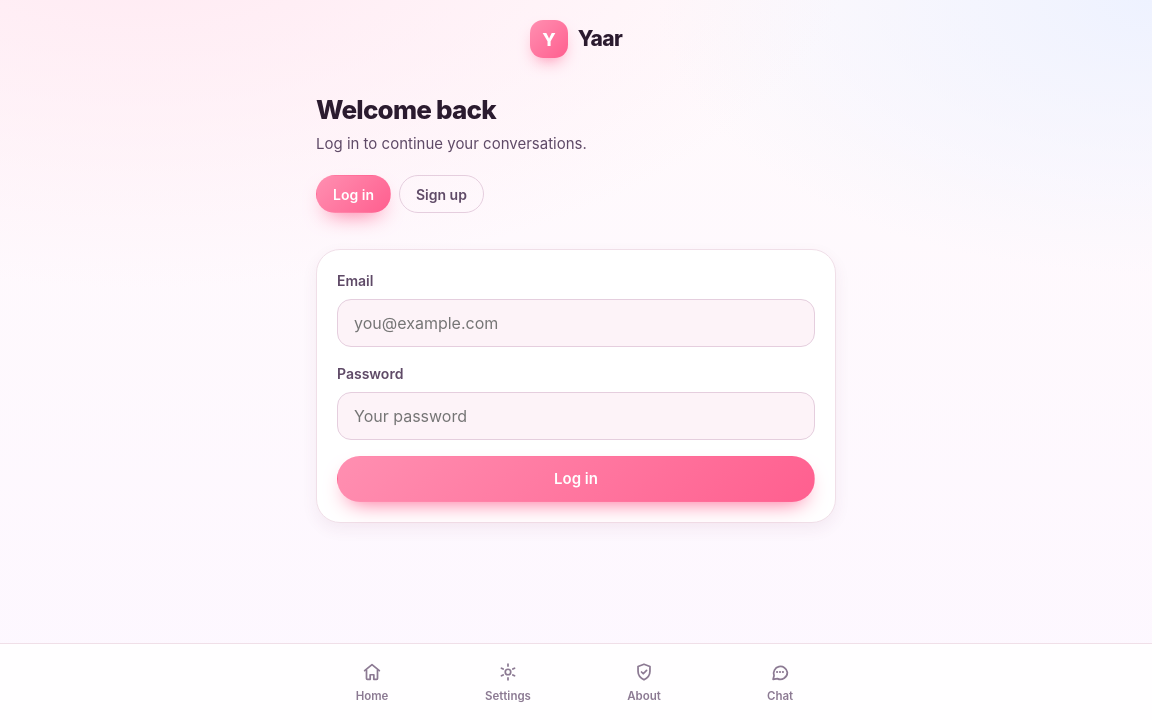
Test: auth › sign-up asks the user to confirm their email when Supabase requires it
Click the tab "Sign up". click: [441, 194]
box: [399,175,484,213]
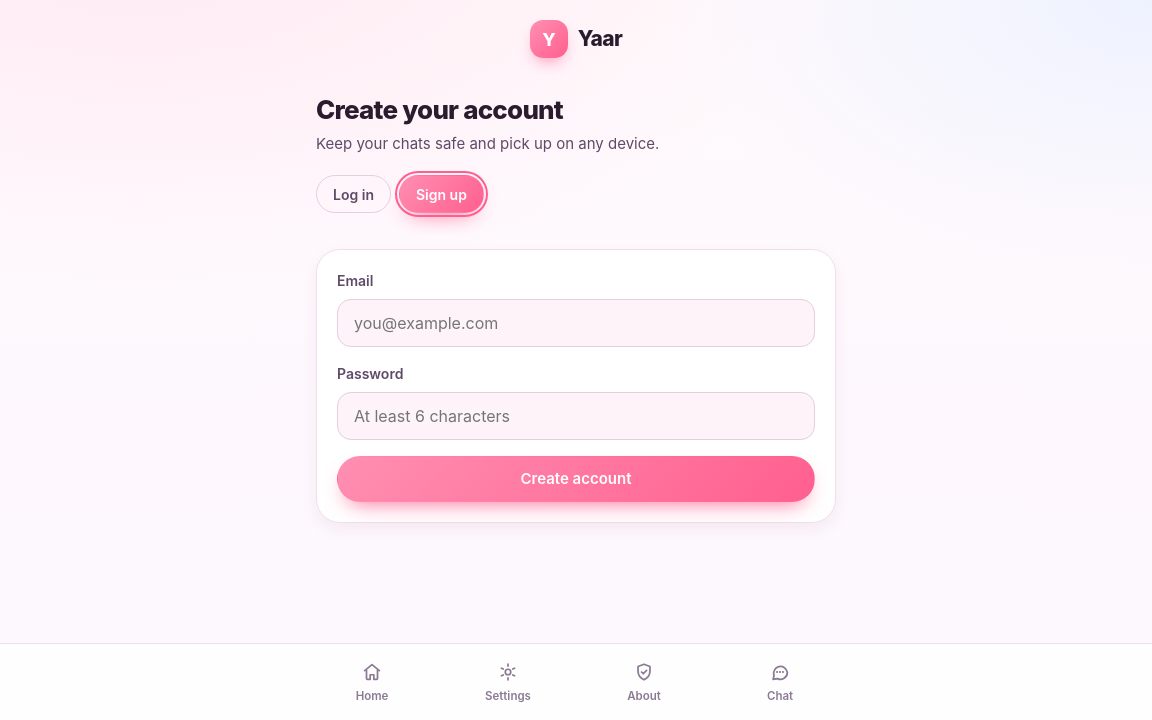
Type "new@example.com" into the field labelled "Email". click: [576, 323]
box: [337,299,815,347]
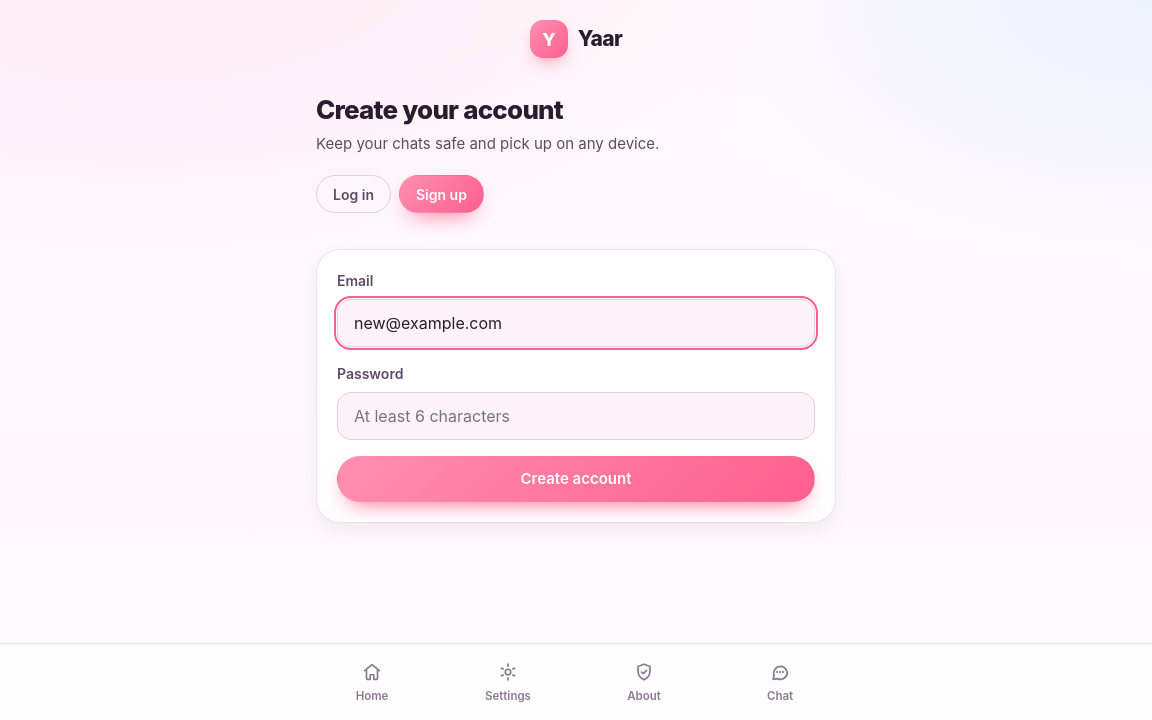
Type "secret123" into the password field labelled "Password". click: [576, 416]
box: [337,392,815,440]
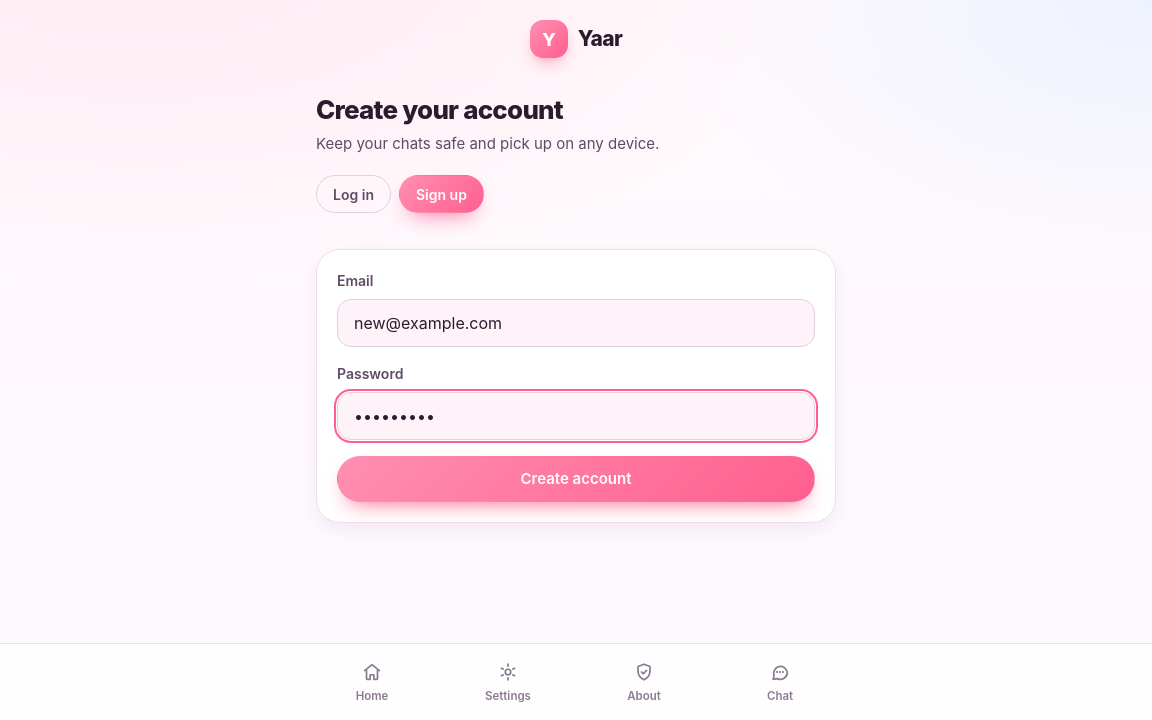
Click the button "Create account". click: [576, 479]
box: [337,456,815,502]
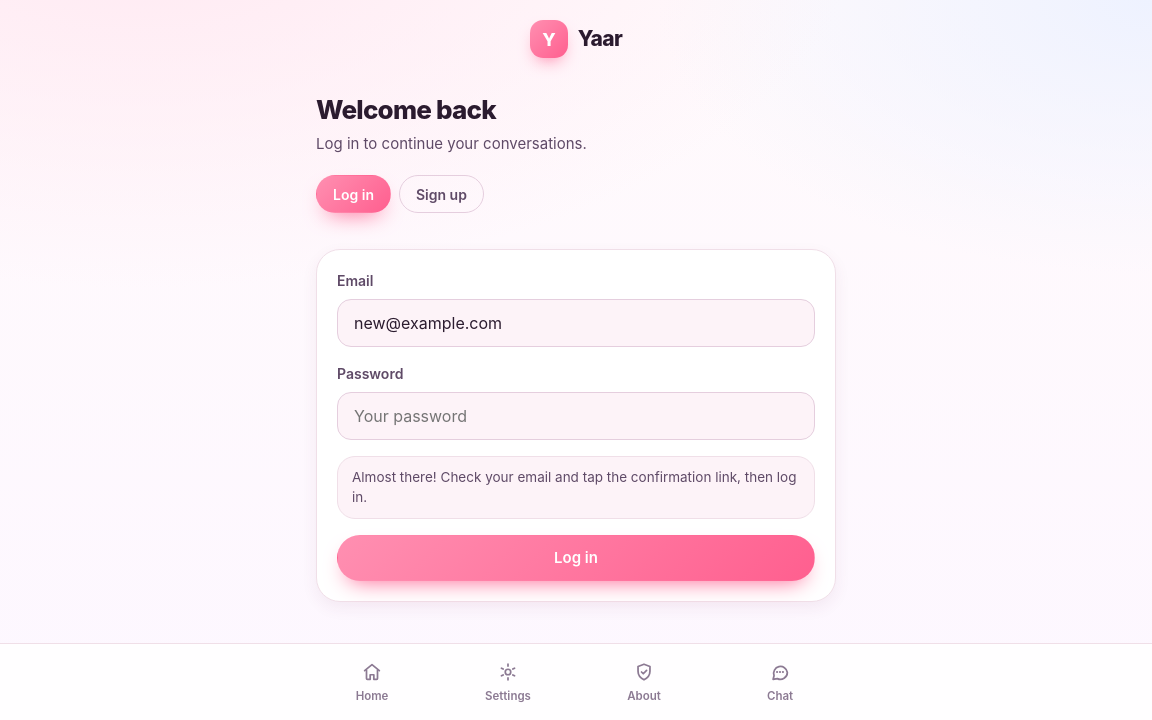
Now the message shows "Check your email", box [352,469,796,505]
